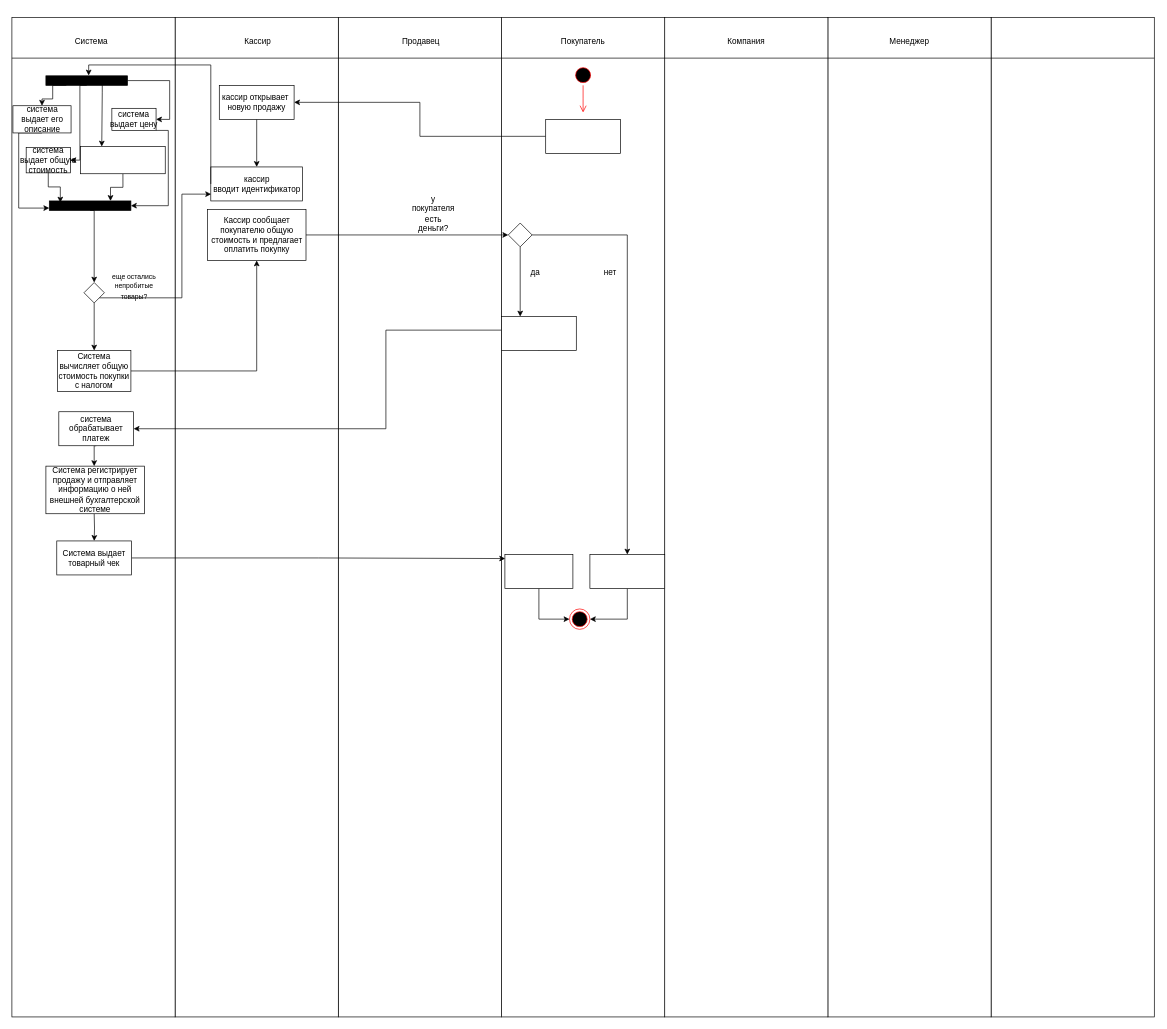
This 1167x1029 diagram has some shape labels left out. Here are the shapes that lost their labels. From the top down, the centre of each, then its label:
(582,136): покупатель подходит к кассе
(122,160): Система записывает наименование товара
(538,333): Покупатель оплачивает покупку
(1072,517): Государственные налоговые службы
(538,571): Покупатель покидает магазин с чеком и товарами
(627,571): покупатель уходит ни с чем
